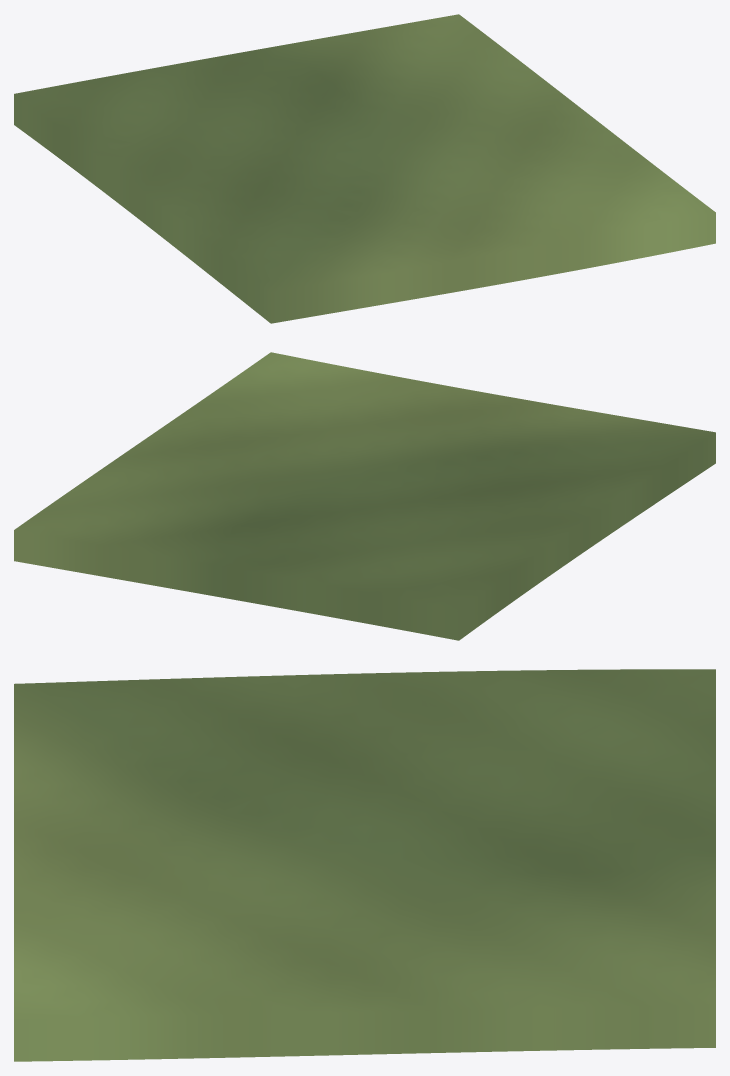
The picture shows the model from 3 angles, top to bottom: view 1: azimuth 30°, elevation 25°; view 2: azimuth 150°, elevation 25°; view 3: azimuth 270°, elevation 25°; orthographic projection. The views are drawn at different scales.
Parts seen in each view (by area): view 1: terrain; view 2: terrain; view 3: terrain.
Boxes of the visible parts, x1=… form: terrain: x1=14, y1=14, x2=715, y2=323; terrain: x1=14, y1=352, x2=715, y2=640; terrain: x1=14, y1=669, x2=715, y2=1061.
Size of the model in its own units: 30 by 4.52 by 30.
